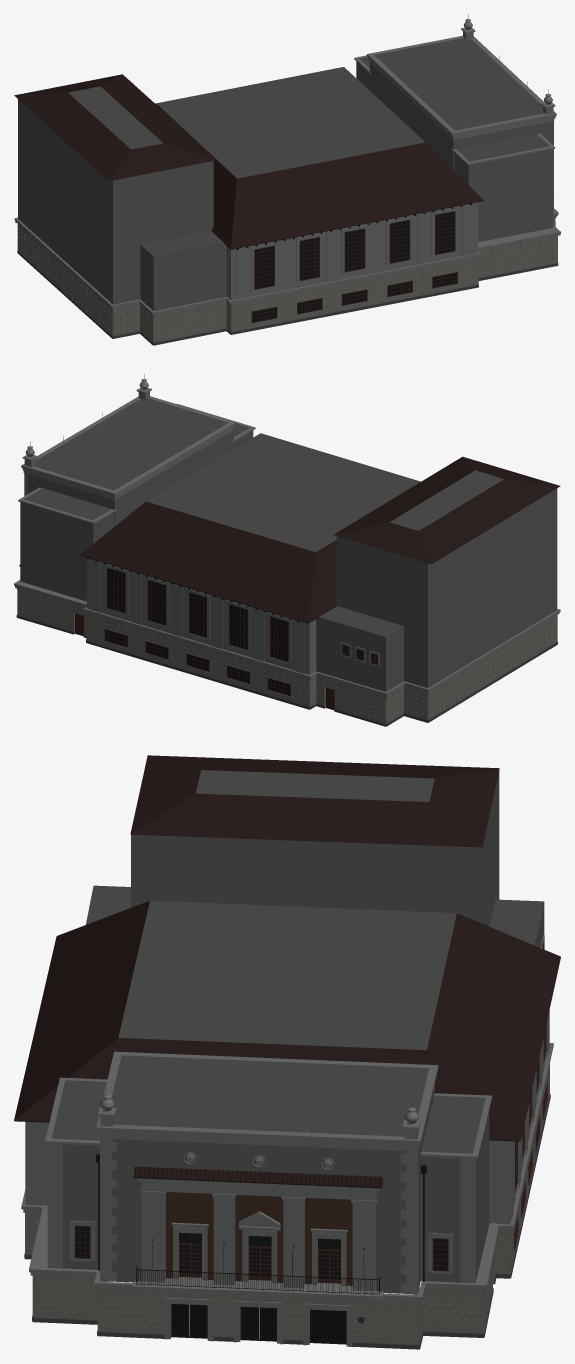
Rendered from hogg-memorial-auditorium-look.glb.
3 renders of one model, top to bottom at view 1: azimuth 30°, elevation 25°; view 2: azimuth 150°, elevation 25°; view 3: azimuth 270°, elevation 25°, orthographic. The views are drawn at different scales.
Parts seen in each view (by area): view 1: n_wall_rough_stone, n_roof_flat, n_roof_tile_terracotta, n_wall_ashlar, n_wall_base_stone, n_glass_window, n_paint_red_trim, n_stone_plinth_grey; view 2: n_wall_rough_stone, n_roof_flat, n_roof_tile_terracotta, n_wall_ashlar, n_wall_base_stone, n_glass_window, n_paint_red_trim, n_stone_plinth_grey; view 3: n_roof_flat, n_roof_tile_terracotta, n_wall_ashlar, n_wall_rough_stone, n_wall_base_stone, n_wall_orange_stucco, n_paint_red_trim, n_glass_window, n_glass_door, n_metal_door_bronze, n_stone_plinth_grey, n_metal_rail_black (+1 smaller).
Part boxes in pixels (x1=…): n_wall_rough_stone: x1=18, y1=61, x2=553, y2=311; n_roof_flat: x1=68, y1=38, x2=549, y2=256; n_roof_tile_terracotta: x1=14, y1=74, x2=483, y2=249; n_wall_ashlar: x1=14, y1=19, x2=560, y2=316; n_wall_base_stone: x1=17, y1=216, x2=557, y2=342; n_glass_window: x1=252, y1=211, x2=457, y2=322; n_paint_red_trim: x1=251, y1=211, x2=457, y2=323; n_stone_plinth_grey: x1=17, y1=250, x2=558, y2=345; n_wall_rough_stone: x1=20, y1=430, x2=557, y2=691; n_roof_flat: x1=24, y1=398, x2=503, y2=636; n_roof_tile_terracotta: x1=80, y1=456, x2=560, y2=623; n_wall_ashlar: x1=14, y1=378, x2=560, y2=696; n_wall_base_stone: x1=16, y1=588, x2=557, y2=723; n_glass_window: x1=105, y1=568, x2=377, y2=695; n_paint_red_trim: x1=75, y1=567, x2=377, y2=710; n_stone_plinth_grey: x1=16, y1=615, x2=557, y2=726; n_roof_flat: x1=51, y1=770, x2=544, y2=1153; n_roof_tile_terracotta: x1=14, y1=755, x2=560, y2=1188; n_wall_ashlar: x1=21, y1=935, x2=553, y2=1347; n_wall_rough_stone: x1=63, y1=771, x2=544, y2=1293; n_wall_base_stone: x1=25, y1=1063, x2=549, y2=1344; n_wall_orange_stucco: x1=166, y1=1192, x2=352, y2=1285; n_paint_red_trim: x1=74, y1=941, x2=547, y2=1283; n_glass_window: x1=75, y1=1064, x2=546, y2=1279; n_glass_door: x1=173, y1=1304, x2=344, y2=1339; n_metal_door_bronze: x1=96, y1=1153, x2=426, y2=1344; n_stone_plinth_grey: x1=24, y1=1094, x2=550, y2=1349; n_metal_rail_black: x1=136, y1=1266, x2=380, y2=1294.
Bounding box in the file's own units: 48.38 × 17.2 × 32.21.
